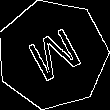M_SE: (20, 21, 85, 88)
